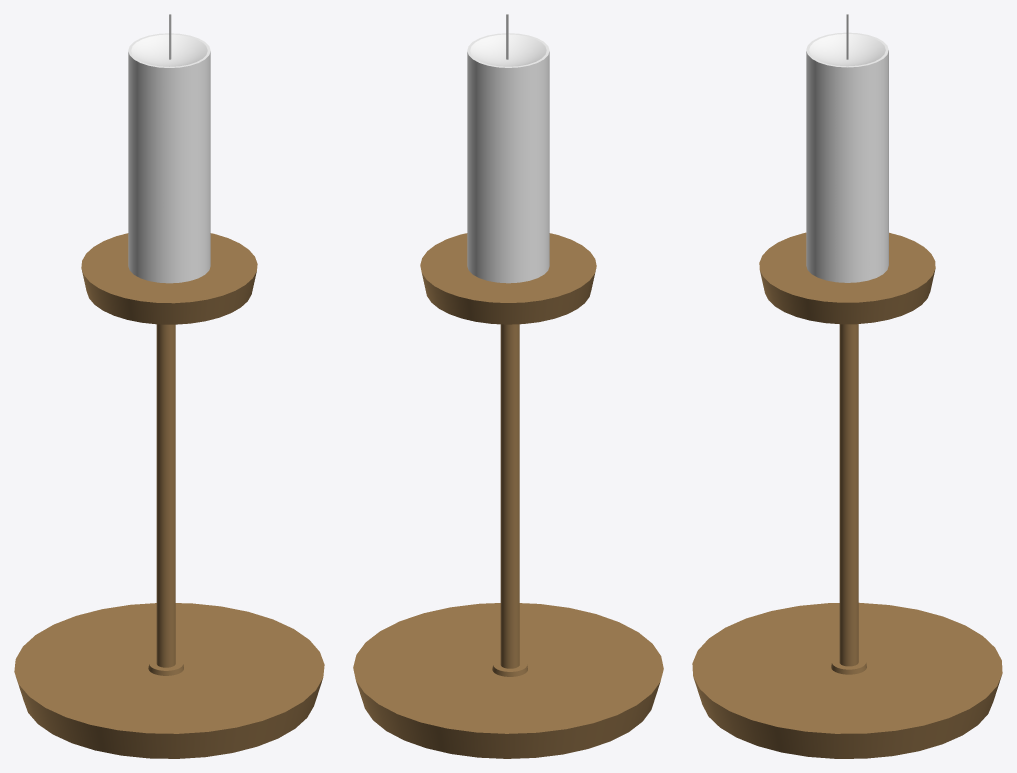
3 renders of one model, left to right at view 1: azimuth 30°, elevation 25°; view 2: azimuth 150°, elevation 25°; view 3: azimuth 270°, elevation 25°, orthographic.
Visible parts, largest first — view 1: 촛대 6; view 2: 촛대 6; view 3: 촛대 6.
Boxes of the visible parts, bbox=[...] form: 촛대 6: bbox=[14, 14, 324, 758]; 촛대 6: bbox=[353, 14, 663, 758]; 촛대 6: bbox=[692, 14, 1002, 758].
Size of the model in its own units: 6.67 by 16.22 by 6.67.
